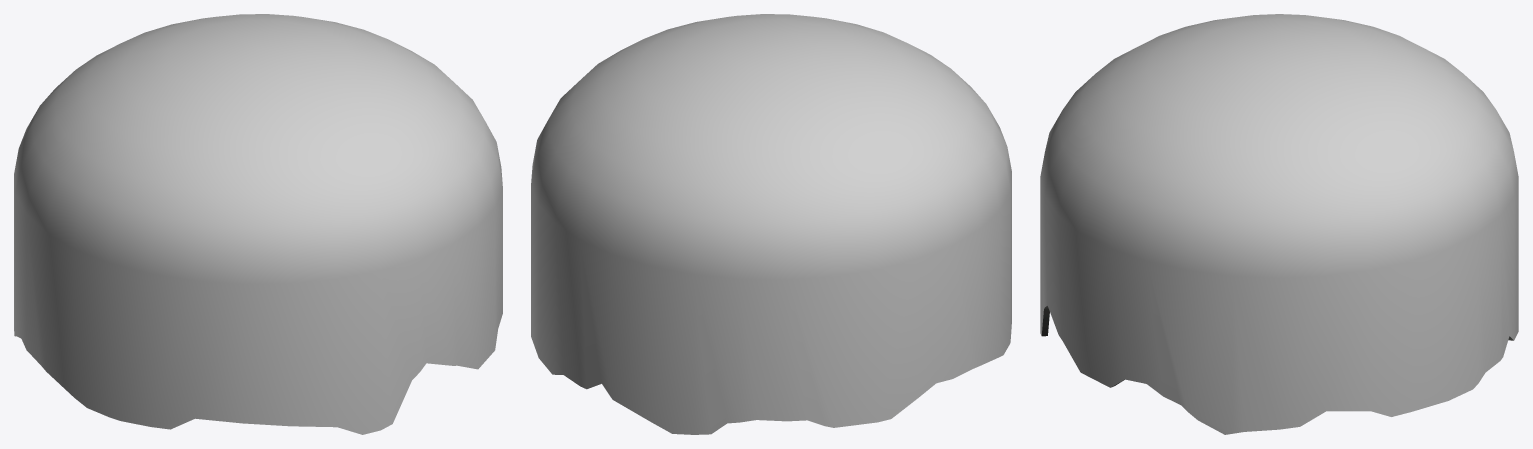
Rendered from HDU_DestroyedPiece05.fbx.
The picture shows the model from 3 angles, left to right: view 1: azimuth 30°, elevation 25°; view 2: azimuth 150°, elevation 25°; view 3: azimuth 270°, elevation 25°; orthographic projection. The views are drawn at different scales.
Parts seen in each view (by area): view 1: HDU_DestroyedPiece05; view 2: HDU_DestroyedPiece05; view 3: HDU_DestroyedPiece05.
Boxes of the visible parts, x1,y1,x2,y2 form: HDU_DestroyedPiece05: [14, 14, 502, 434]; HDU_DestroyedPiece05: [531, 14, 1011, 434]; HDU_DestroyedPiece05: [1040, 14, 1518, 434].
Size of the model in its own units: 7.11 by 4.77 by 7.11.
